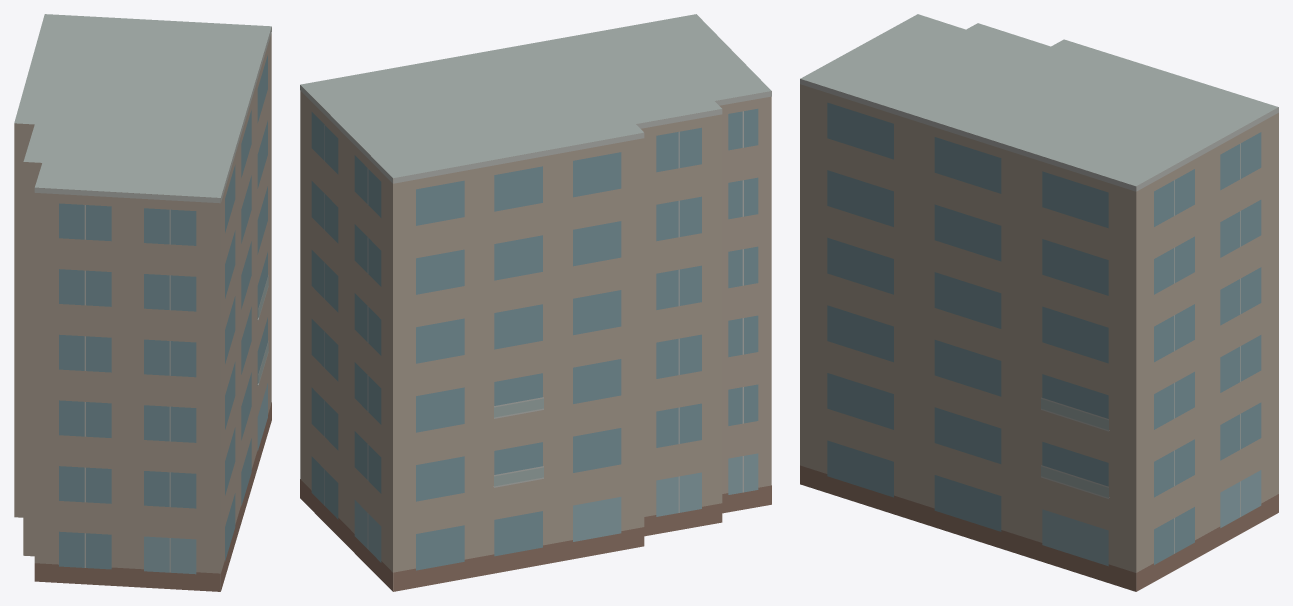
Rendered from survey-upis-32641708.glb.
3 renders of one model, left to right at view 1: azimuth 30°, elevation 25°; view 2: azimuth 150°, elevation 25°; view 3: azimuth 270°, elevation 25°, orthographic. The views are drawn at different scales.
Visible parts, largest first — view 1: survey-upis-32641708.tmp; view 2: survey-upis-32641708.tmp; view 3: survey-upis-32641708.tmp.
Boxes of the visible parts, bbox=[...] form: survey-upis-32641708.tmp: bbox=[14, 14, 271, 591]; survey-upis-32641708.tmp: bbox=[300, 14, 771, 591]; survey-upis-32641708.tmp: bbox=[800, 14, 1278, 591].
Bounding box in the file's own units: 16.69 × 18.3 × 19.59.
